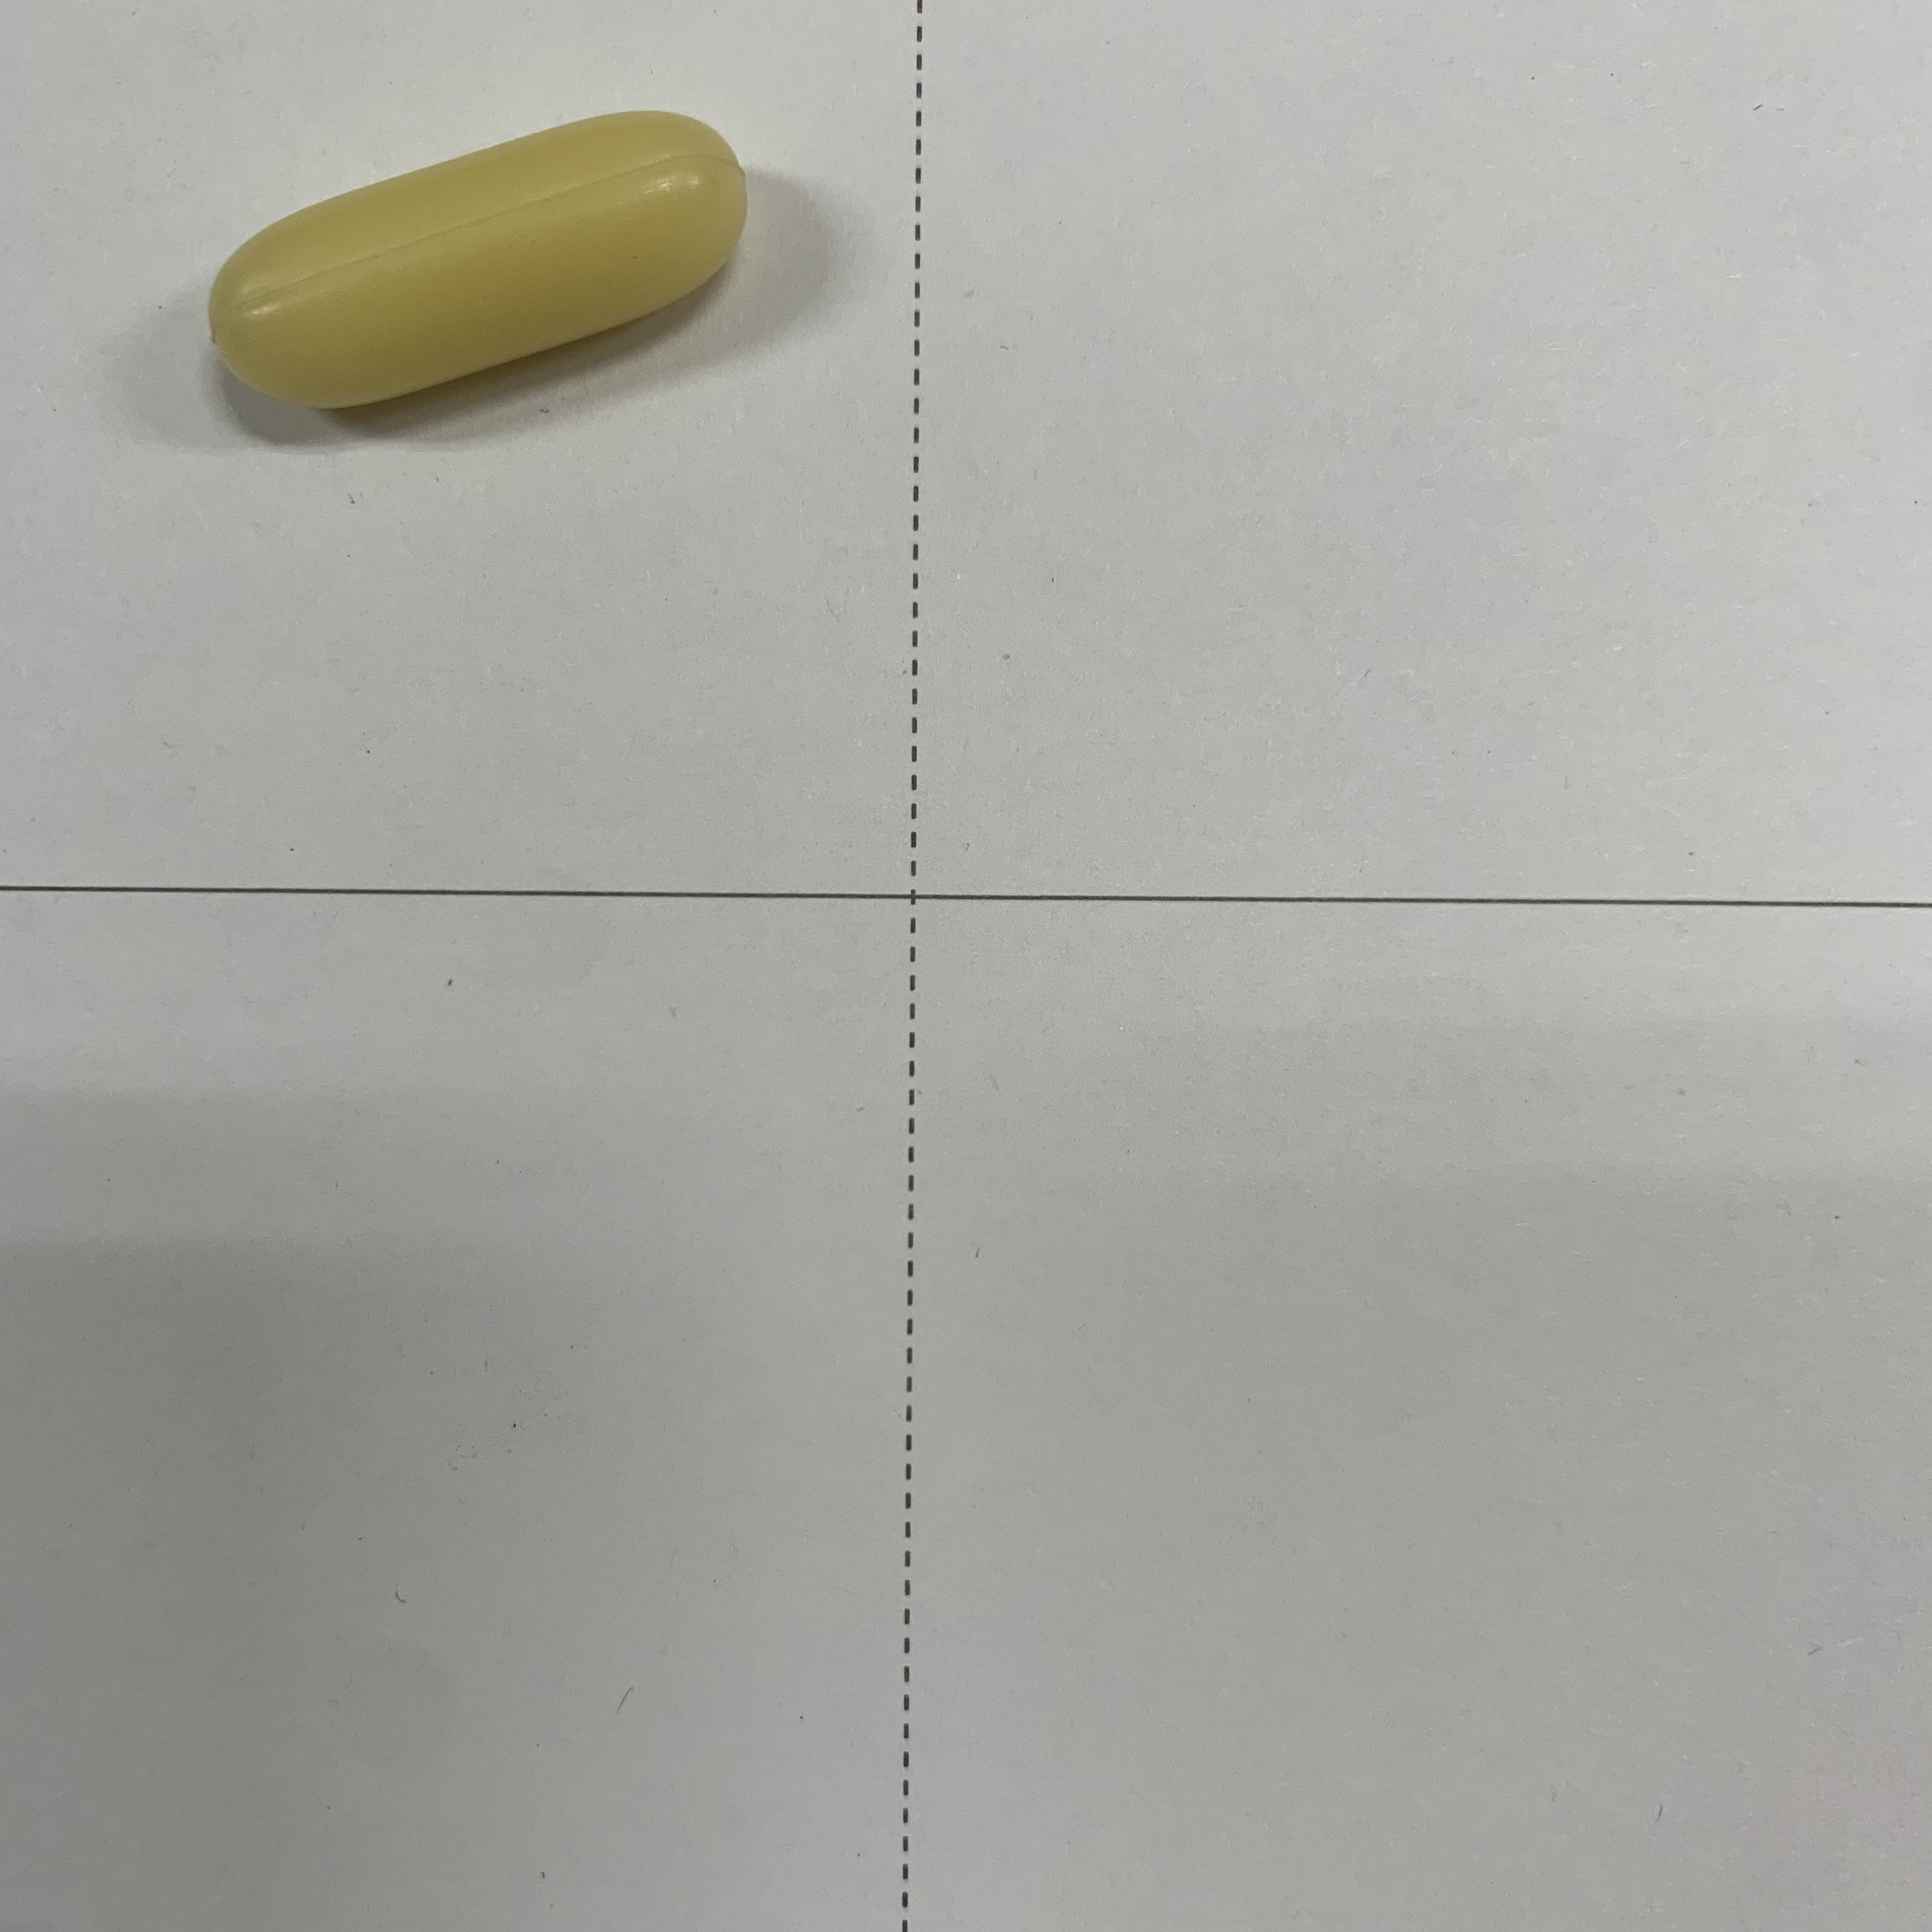rec_drug: (180, 85, 777, 419)
